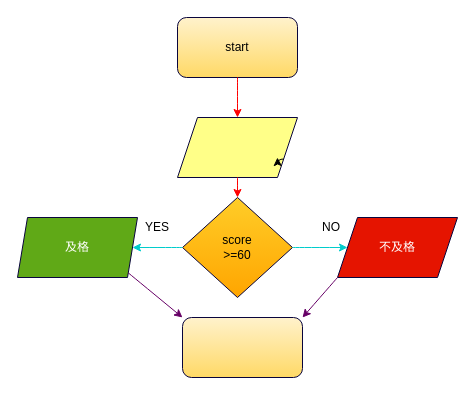
This 475x395 diagram has some shape labels left out. Here are the shapes that lost their labels. From the top down, the centre of each, then its label:
At (x=237, y=147): "enter score".
At (x=242, y=347): "end".
